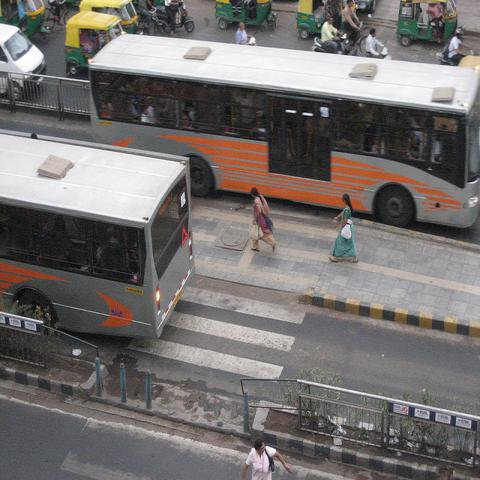bus: (90, 30, 479, 230), (0, 130, 198, 338)
car: (296, 1, 356, 40), (353, 1, 376, 12)
motorcycle: (154, 0, 194, 33), (312, 29, 357, 56), (378, 42, 392, 59)
truck: (0, 23, 46, 105)
